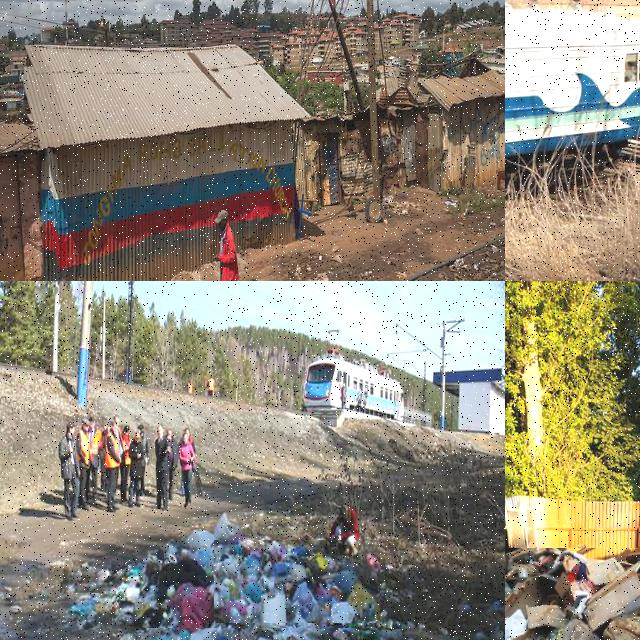lixeira: (215, 540, 382, 624), (505, 549, 639, 639), (119, 530, 215, 629), (151, 628, 453, 639), (74, 594, 113, 632), (82, 558, 121, 592), (217, 512, 244, 543)
